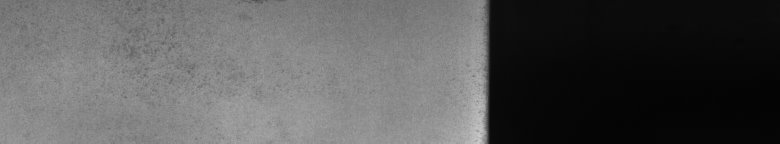ib: (124, 4, 199, 84)
